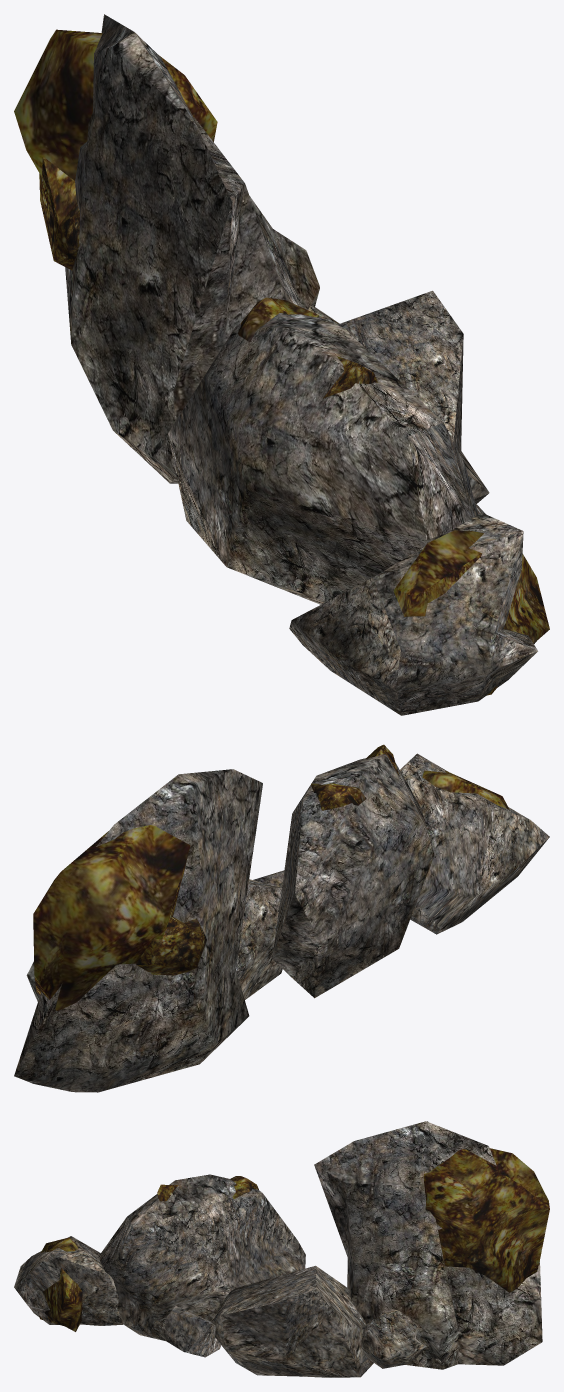
File: pir_m_prp_cav_rockGroupGold_c.fbx
3 views of the same model, one above another, from view 1: azimuth 30°, elevation 25°; view 2: azimuth 150°, elevation 25°; view 3: azimuth 270°, elevation 25° (orthographic). The views are drawn at different scales.
Parts seen in each view (by area): view 1: rock_5, rock_4, rock_0, rock_3, rock_18, rock_6, rock_22, rock_14, rock_10; view 2: rock_4, rock_5, rock_18, rock_0, rock_3, rock_22, rock_6, rock_14; view 3: rock_4, rock_5, rock_3, rock_18, rock_0, rock_1, rock_6, rock_2, rock_14.
Boxes of the visible parts, bbox=[...] form: rock_5: bbox=[168, 297, 477, 604]; rock_4: bbox=[65, 14, 319, 483]; rock_0: bbox=[289, 512, 537, 715]; rock_3: bbox=[337, 290, 489, 503]; rock_18: bbox=[14, 29, 217, 180]; rock_6: bbox=[393, 530, 549, 695]; rock_22: bbox=[39, 157, 79, 270]; rock_14: bbox=[238, 297, 318, 341]; rock_10: bbox=[323, 356, 377, 398]; rock_4: bbox=[14, 769, 262, 1092]; rock_5: bbox=[272, 753, 434, 998]; rock_18: bbox=[33, 825, 190, 1010]; rock_0: bbox=[400, 753, 549, 934]; rock_3: bbox=[236, 879, 282, 999]; rock_22: bbox=[136, 917, 206, 975]; rock_6: bbox=[422, 770, 509, 809]; rock_14: bbox=[311, 783, 366, 810]; rock_4: bbox=[314, 1121, 542, 1369]; rock_5: bbox=[98, 1174, 305, 1340]; rock_3: bbox=[211, 1265, 373, 1377]; rock_18: bbox=[424, 1148, 549, 1292]; rock_0: bbox=[14, 1236, 123, 1325]; rock_1: bbox=[361, 1308, 426, 1368]; rock_6: bbox=[39, 1237, 82, 1331]; rock_2: bbox=[162, 1306, 221, 1357]; rock_14: bbox=[230, 1176, 258, 1198].
Bounding box in the file's own units: 4192 × 4933 × 10749.
Materials: 2 (2 with a texture image).
